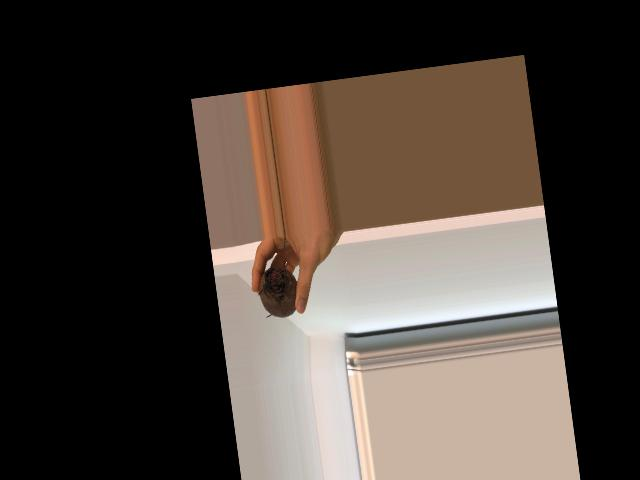beet: (251, 234, 302, 321)
